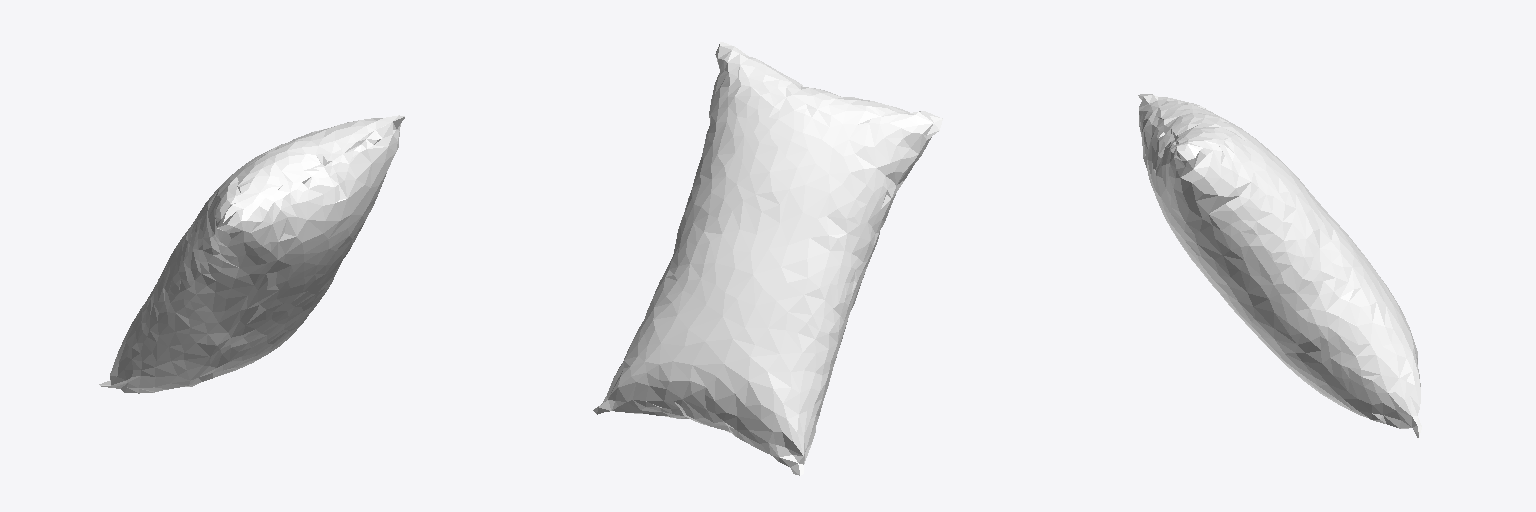
Rendered from pillow_2k.obj.
3 views of the same model, side by side, from view 1: azimuth 30°, elevation 25°; view 2: azimuth 150°, elevation 25°; view 3: azimuth 270°, elevation 25° (orthographic).
Visible parts, largest first — view 1: pillow_2k; view 2: pillow_2k; view 3: pillow_2k.
Boxes of the visible parts, x1=… form: pillow_2k: x1=99, y1=115, x2=404, y2=393; pillow_2k: x1=593, y1=42, x2=942, y2=475; pillow_2k: x1=1138, y1=94, x2=1421, y2=437.
Size of the model in its own units: 14.42 by 20 by 16.89.